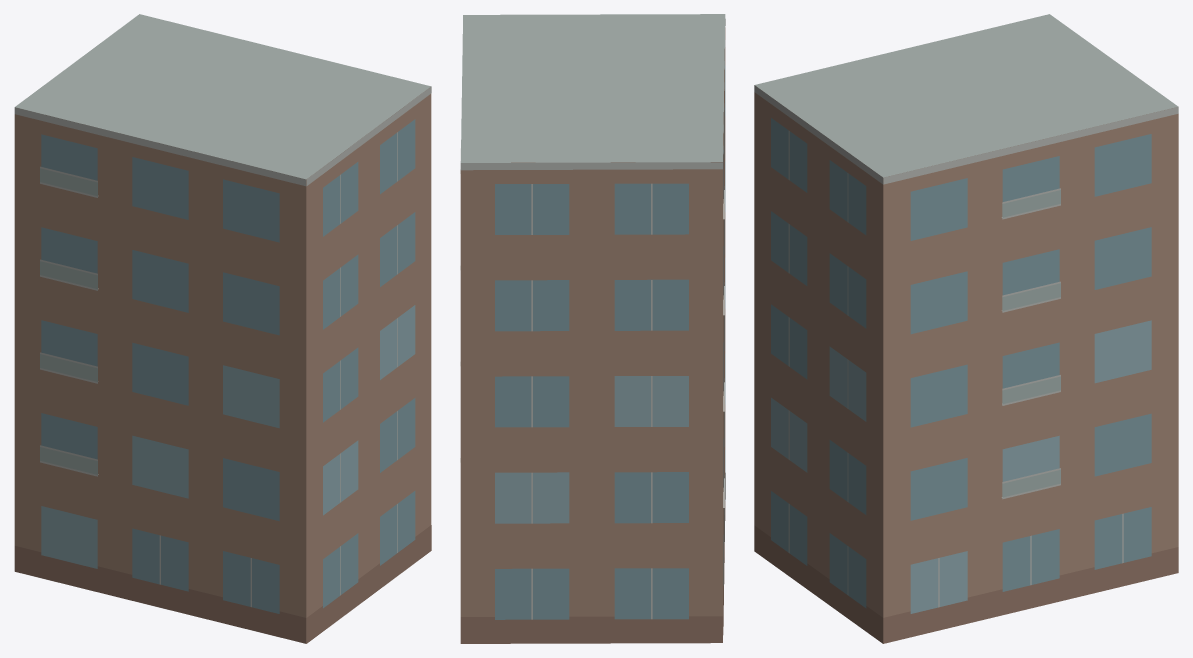
The model's file is survey-upis-33001146.glb.
The picture shows the model from 3 angles, left to right: view 1: azimuth 30°, elevation 25°; view 2: azimuth 150°, elevation 25°; view 3: azimuth 270°, elevation 25°; orthographic projection. The views are drawn at different scales.
Parts seen in each view (by area): view 1: survey-upis-33001146.tmp; view 2: survey-upis-33001146.tmp; view 3: survey-upis-33001146.tmp.
Boxes of the visible parts, <box> form: survey-upis-33001146.tmp: <box>14,14,431,643</box>; survey-upis-33001146.tmp: <box>460,14,725,643</box>; survey-upis-33001146.tmp: <box>754,14,1178,643</box>.
Bounding box in the file's own units: 12.2 × 16.2 × 13.37.
